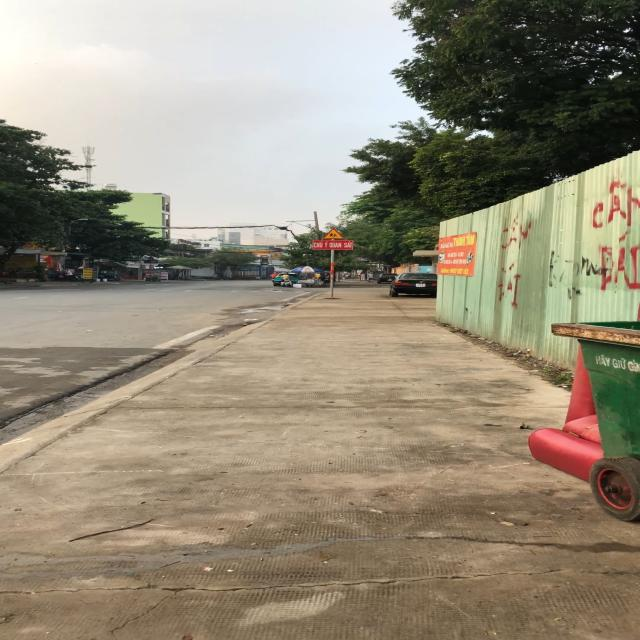Bien bao tre em: (320, 227, 346, 240)
